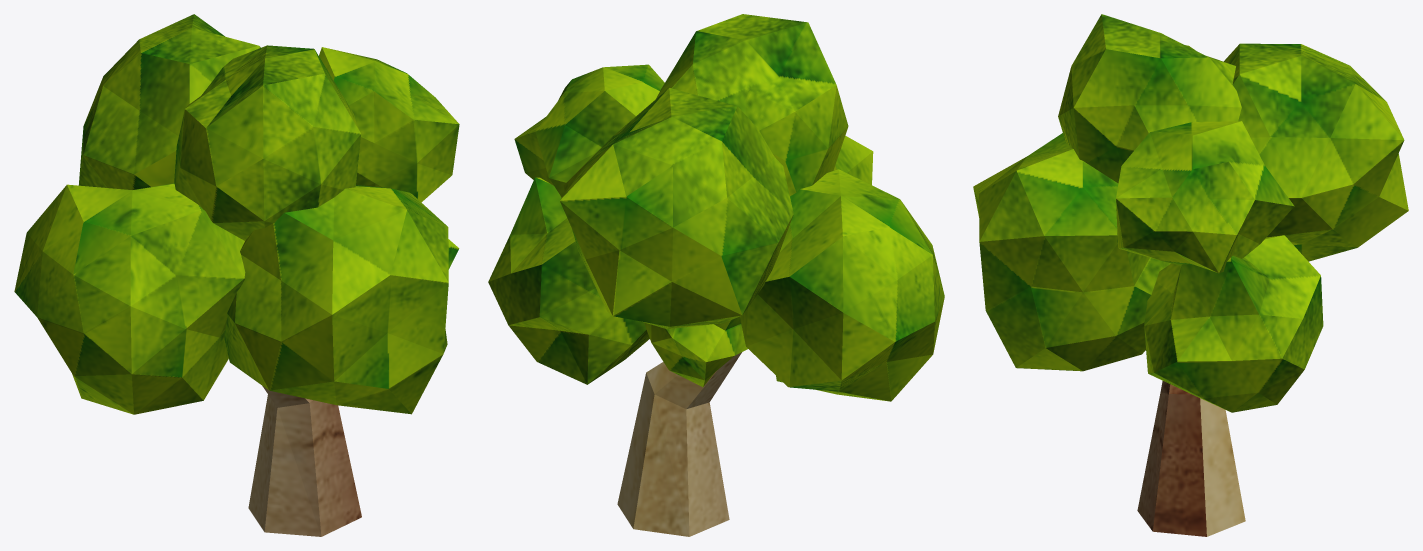
The model's file is Laubbaum2_final.fbx.
3 views of the same model, side by side, from view 1: azimuth 30°, elevation 25°; view 2: azimuth 150°, elevation 25°; view 3: azimuth 270°, elevation 25° (orthographic). The views are drawn at different scales.
Visible parts, largest first — view 1: laubbaumfinal_2_1; view 2: laubbaumfinal_2_1; view 3: laubbaumfinal_2_1.
Part boxes in pixels (bbox=[...]): laubbaumfinal_2_1: bbox=[14, 14, 459, 536]; laubbaumfinal_2_1: bbox=[488, 14, 944, 536]; laubbaumfinal_2_1: bbox=[973, 14, 1408, 536].
Size of the model in its own units: 634 by 711 by 608.
